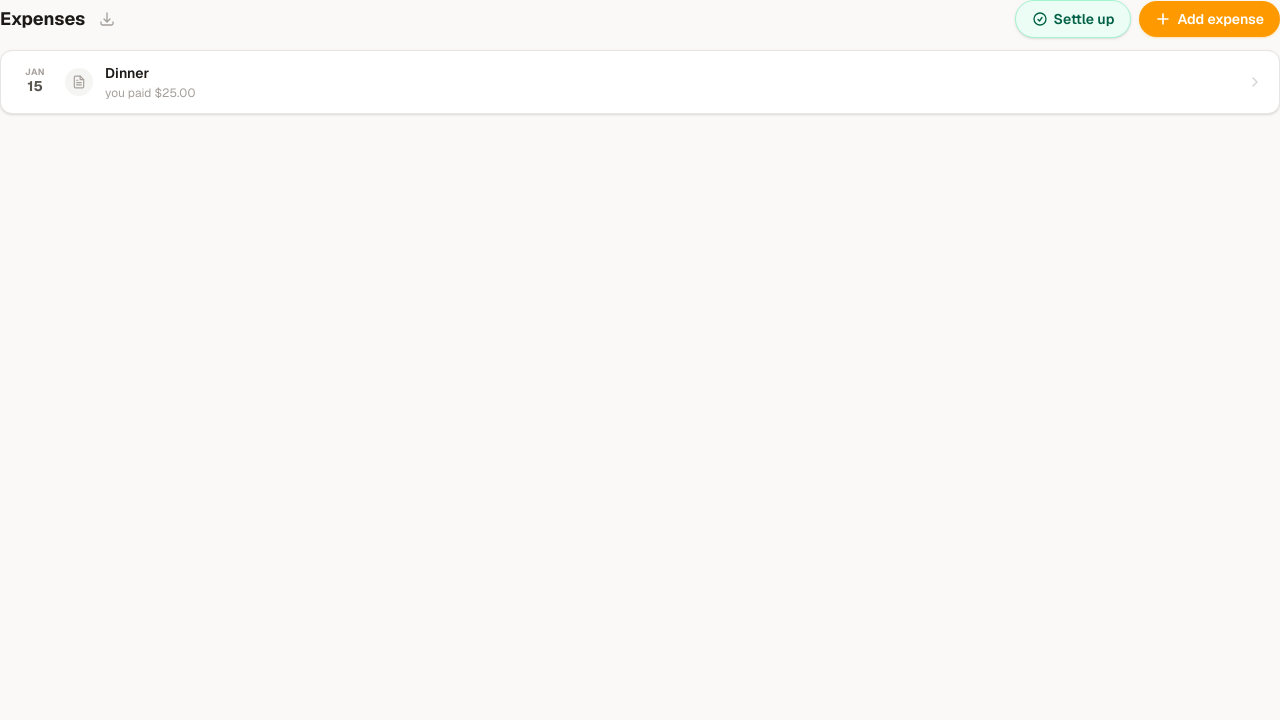
it: ExpensesList — detail modal shows correct actions for creator vs non-creator › shows 'Added by you' when the current user is the creator
This screenshot has width=1280, height=720.
Click the button "JAN 15 Dinner you paid $25.00": [640, 82] box [0,50,1279,114]
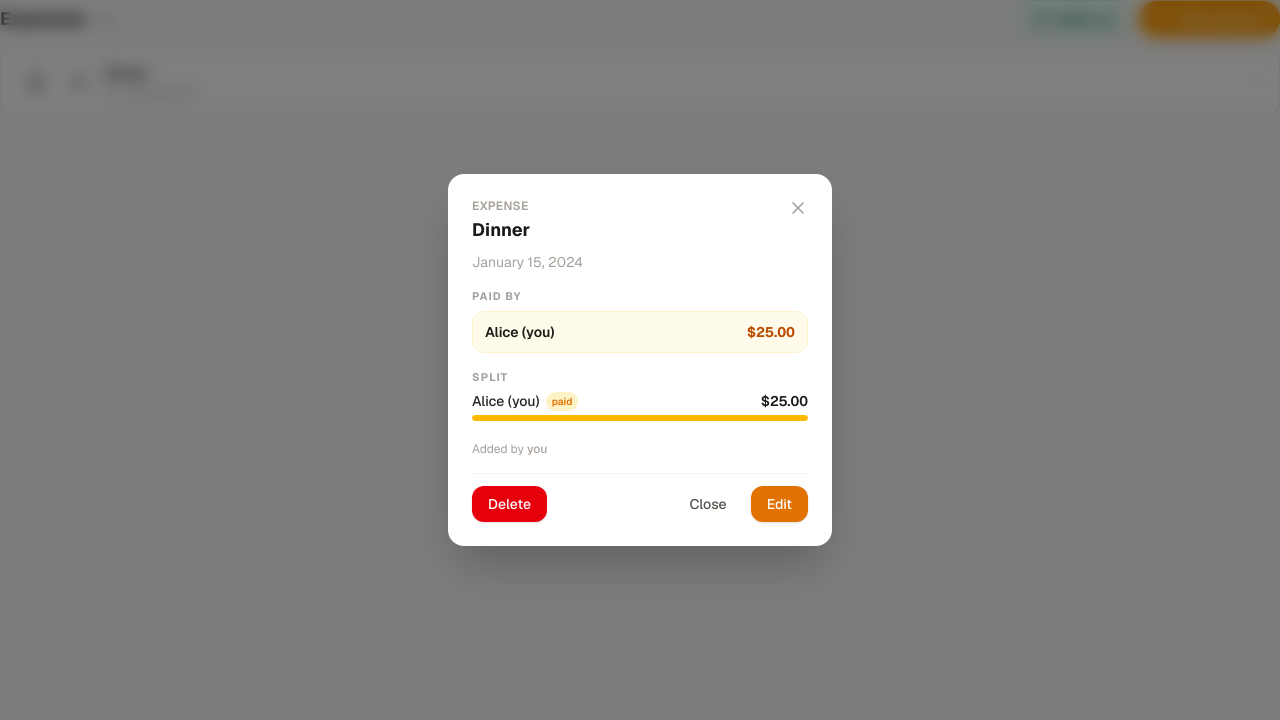
Now the text "Added by you" is shown, box [472,441,547,457]
